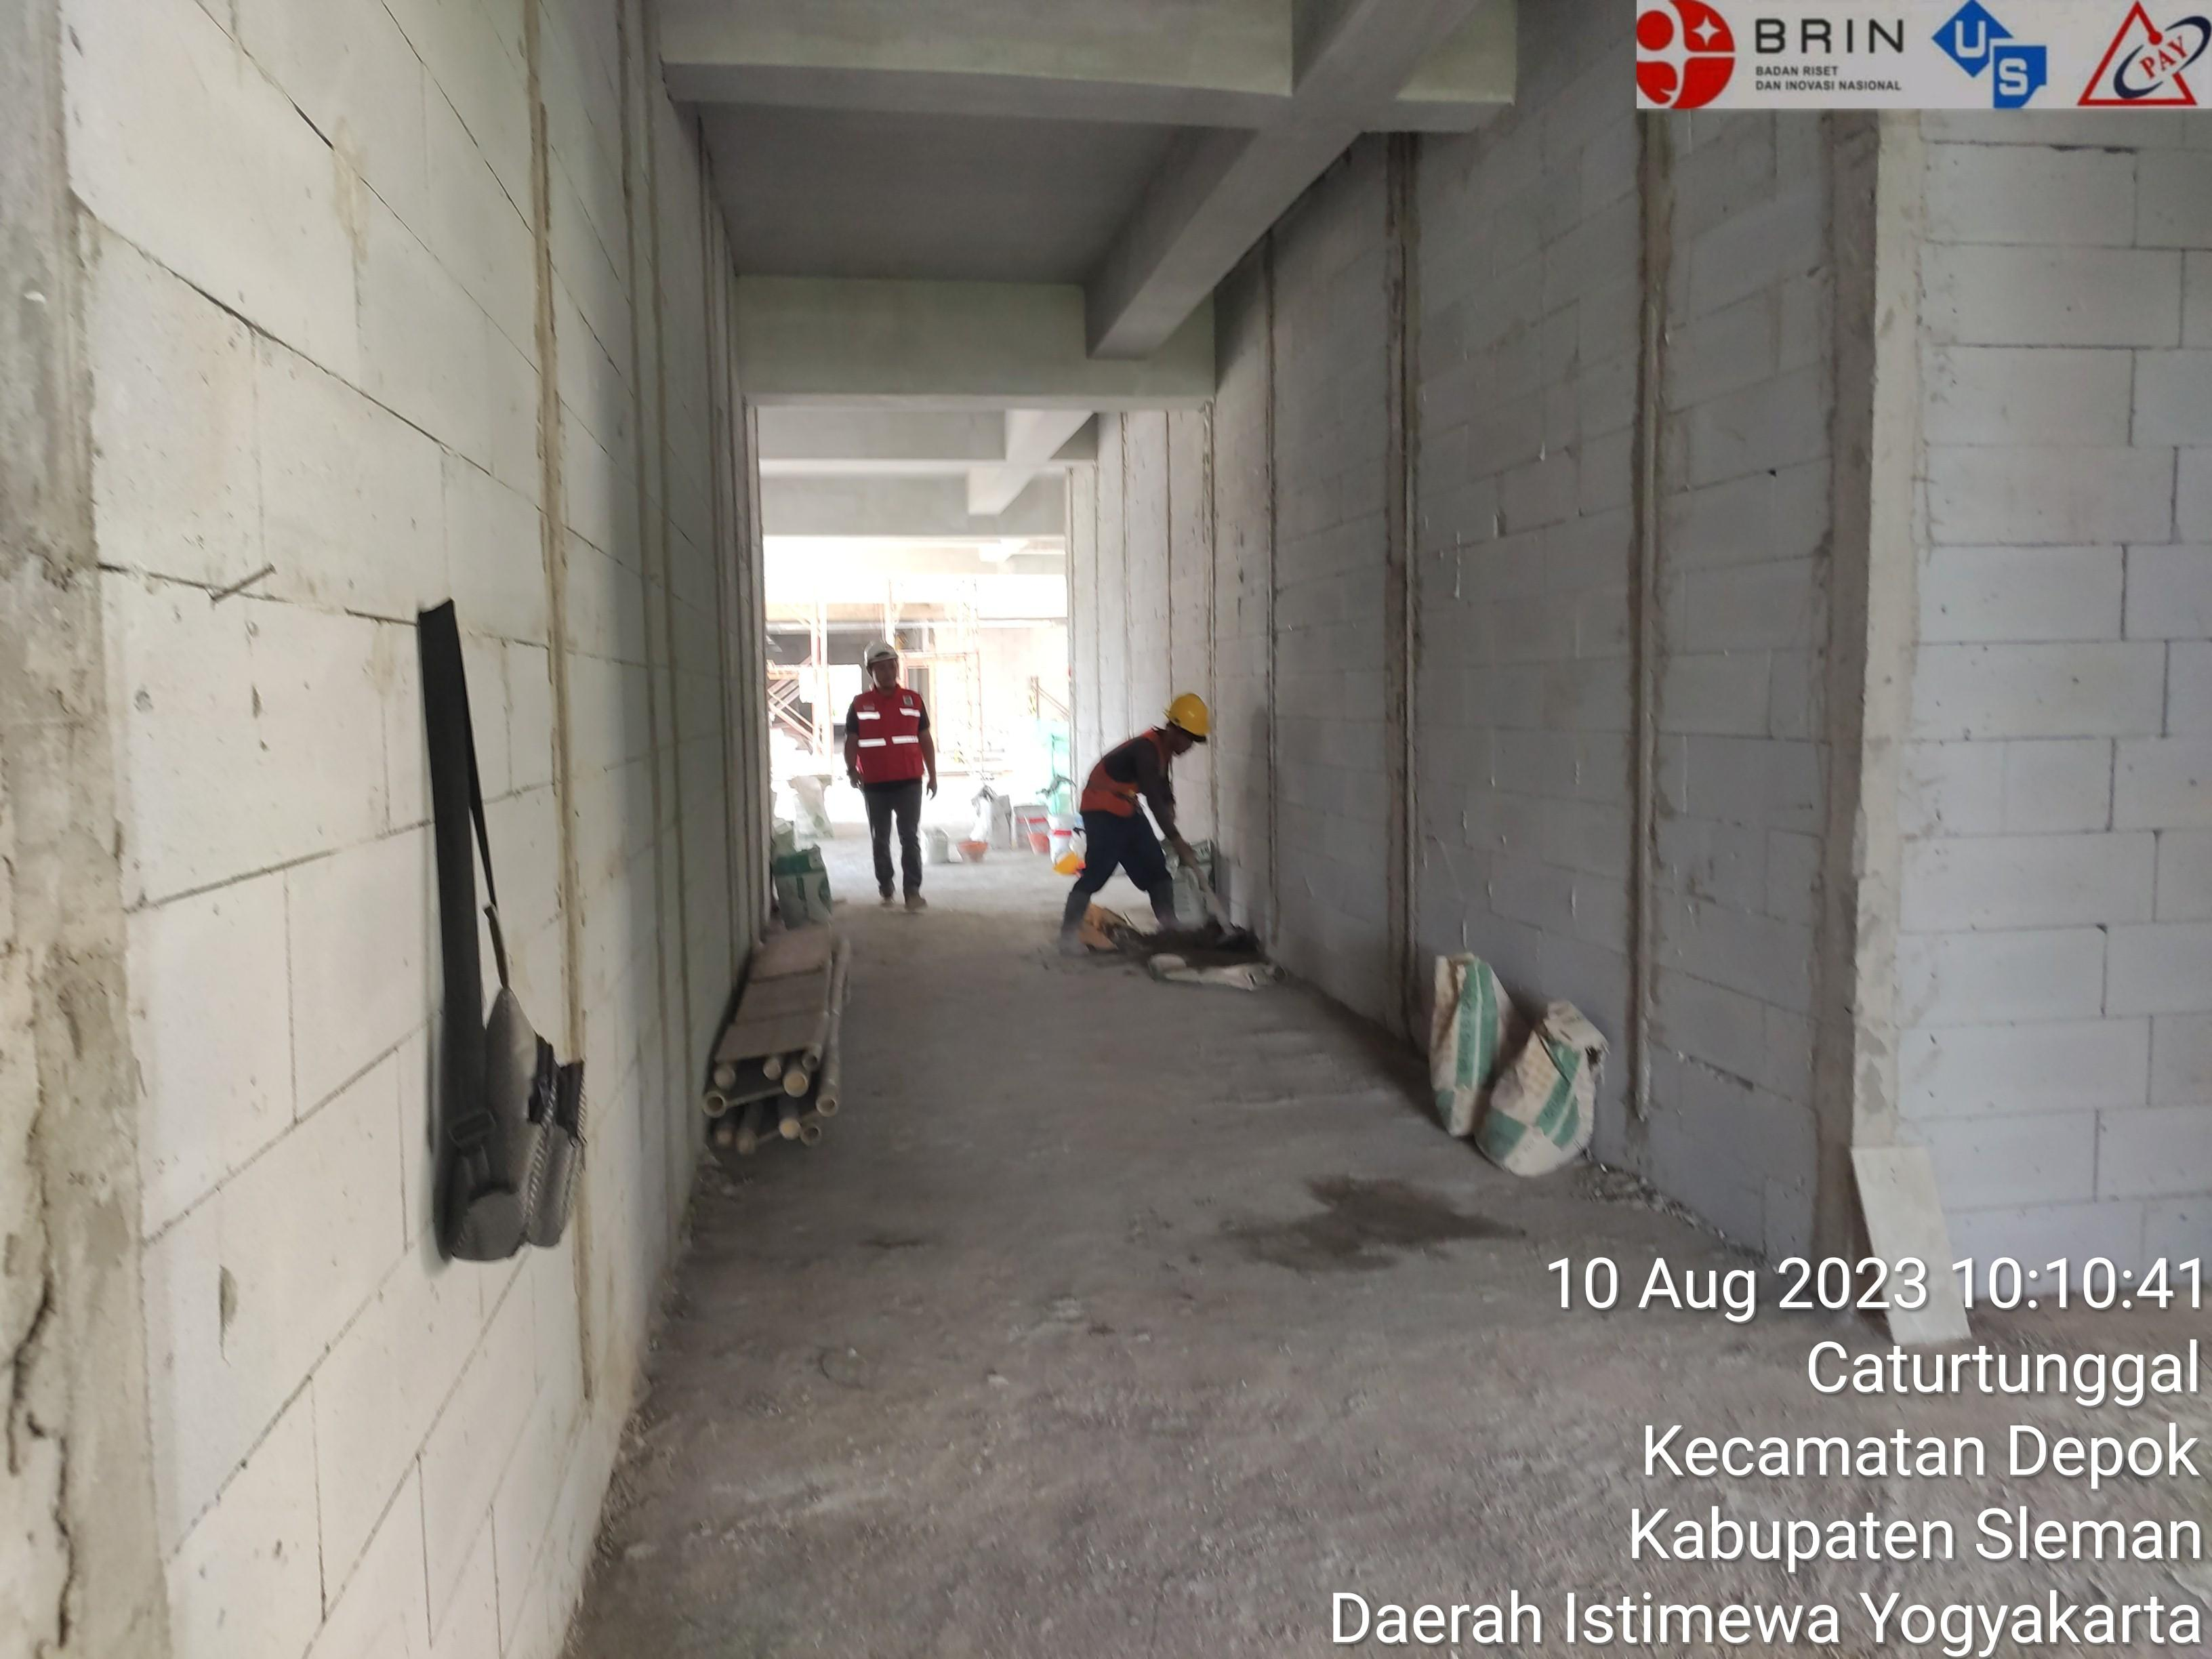hat: (1150, 655, 1244, 767), (834, 610, 928, 709)
vest: (1082, 695, 1186, 896), (813, 681, 963, 817)
